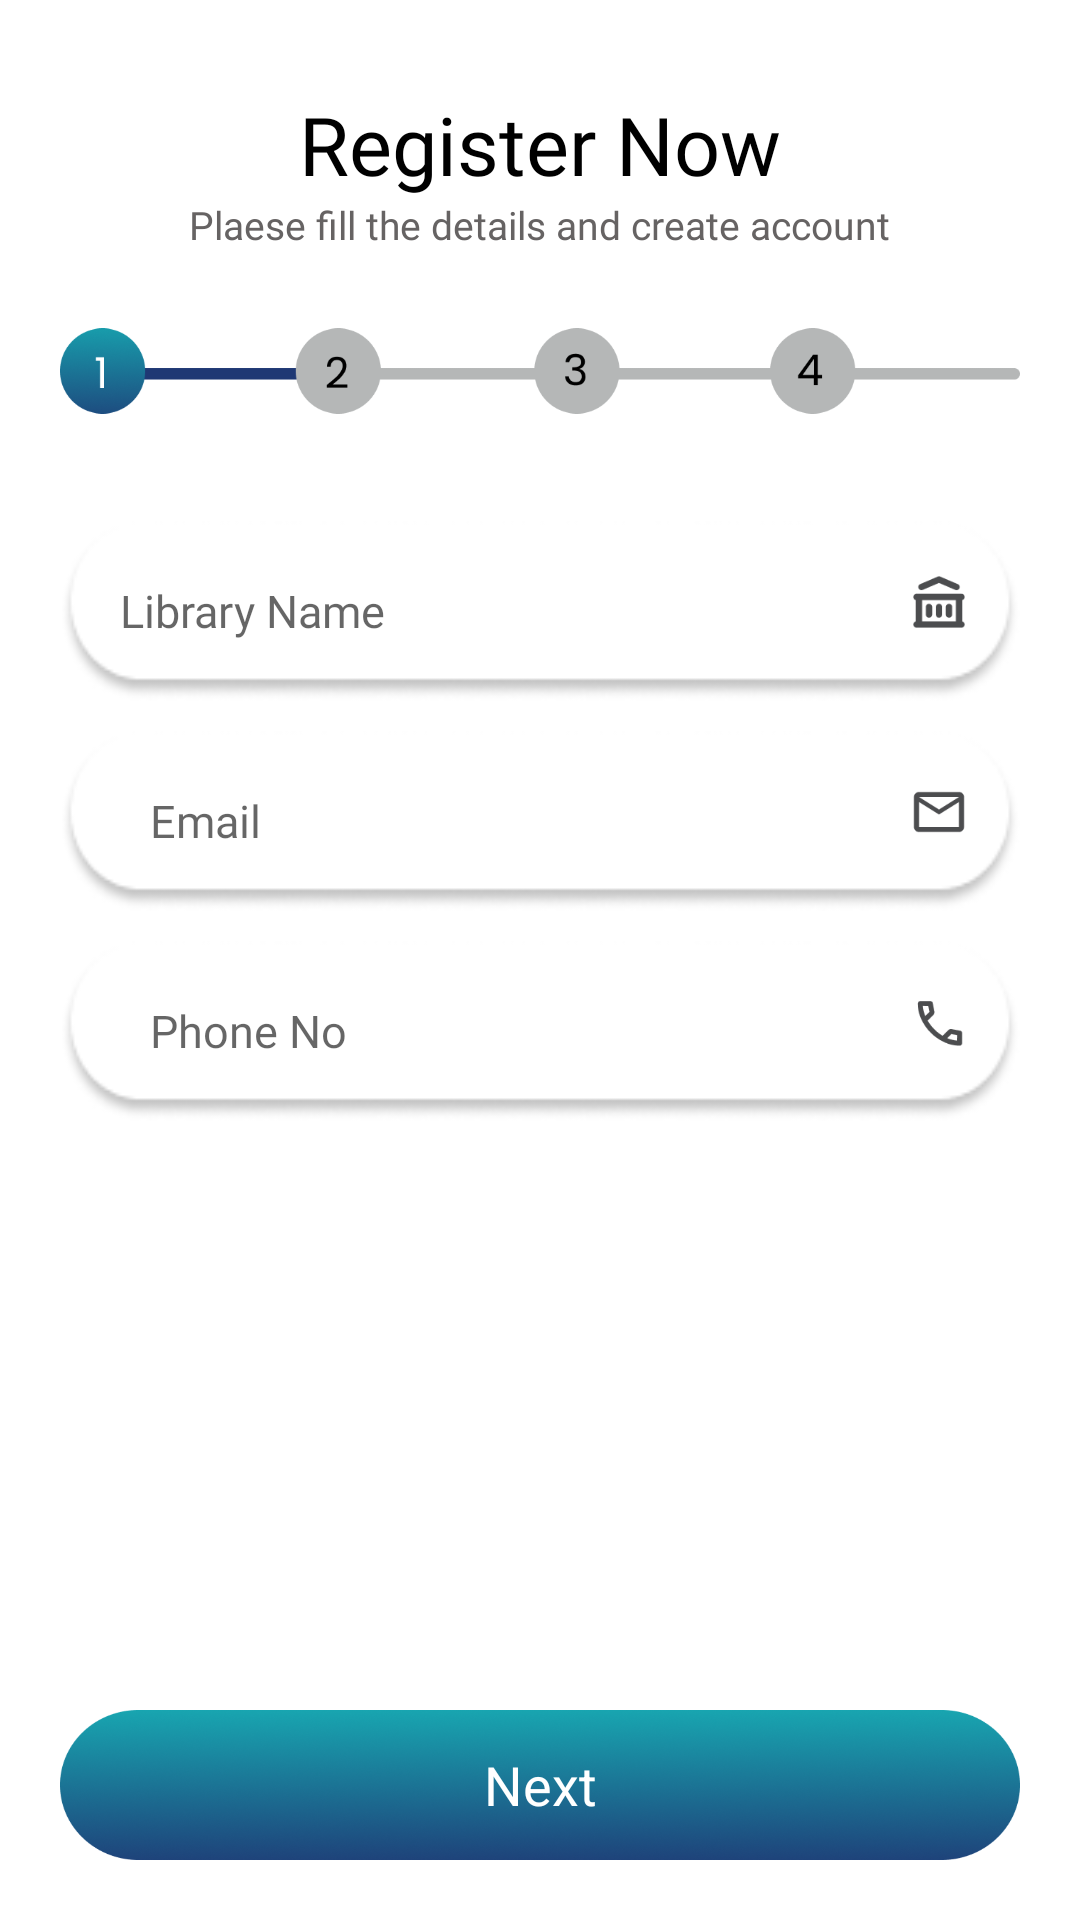

Icons on this 1080x1920 Android screen, each with its box as (x1, y1, x2, y2):
lib name: (913, 576, 965, 628)
